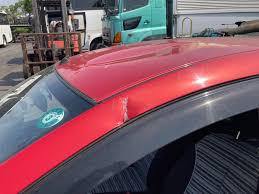roof-dent: (61, 37, 247, 132)
